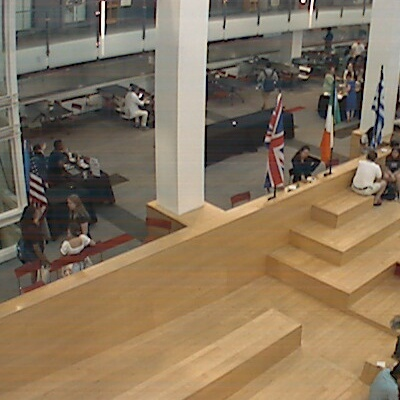head: (63, 221, 86, 237), (66, 195, 87, 212), (23, 203, 42, 220), (299, 145, 313, 159), (366, 149, 377, 162), (388, 147, 400, 158), (327, 65, 338, 76), (128, 83, 139, 93), (263, 60, 273, 69), (345, 70, 353, 81)
